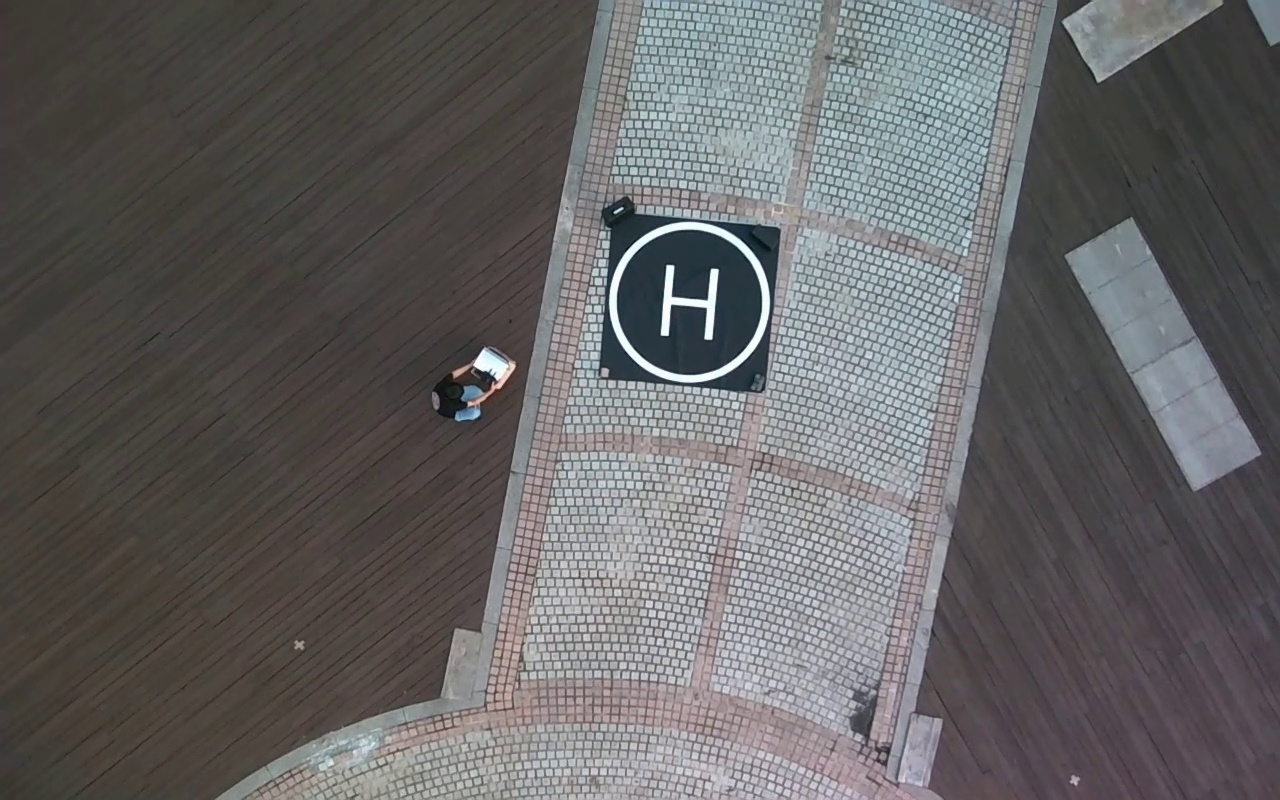H: (658, 262, 719, 342)
heliport: (609, 219, 772, 381)
